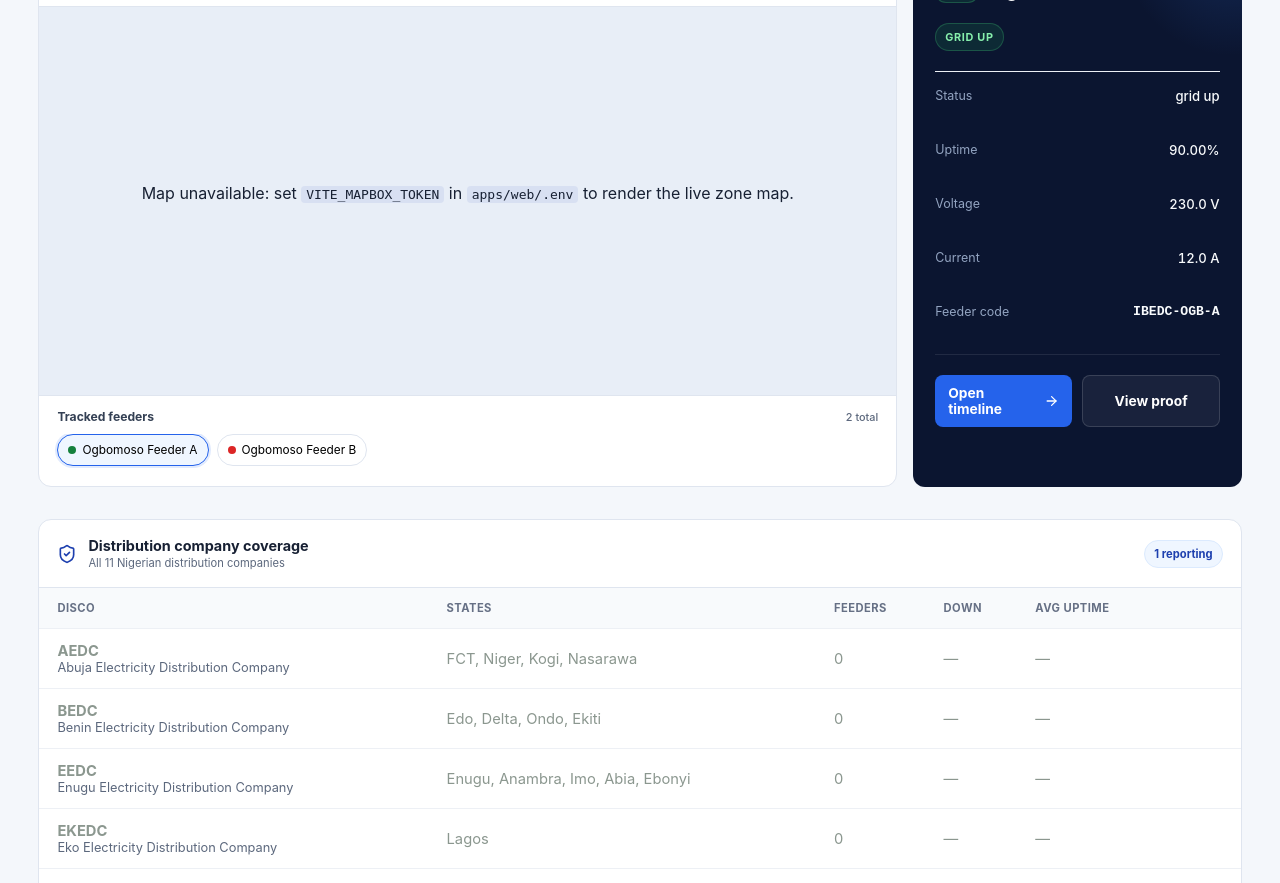
Test: Dashboard › updates selected feeder details from zone marker clicks
(page scrolled)
Click the button "Ogbomoso Feeder B". click: (292, 450)
box: [216,434,367,466]
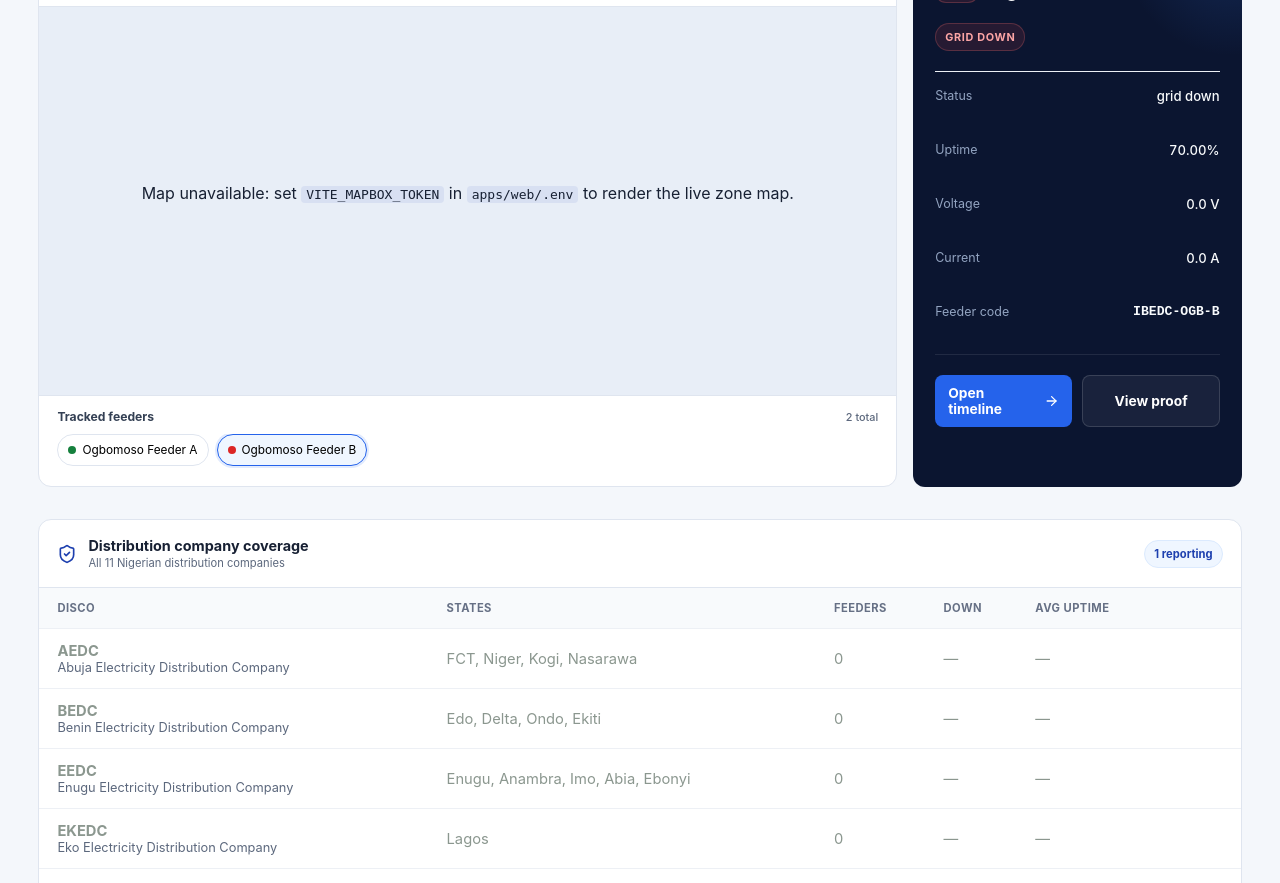
Expected: the text "IBEDC-OGB-B" is shown, [1133,304,1220,319]
